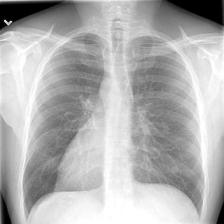normal: (17, 29, 209, 224)
